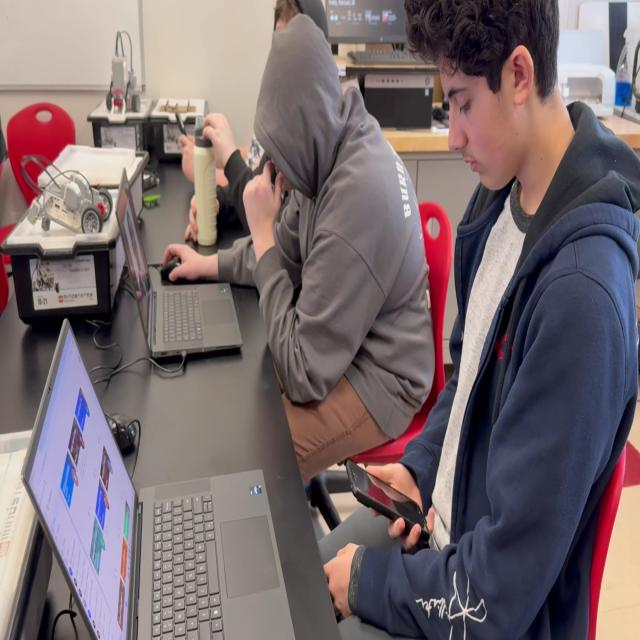pen: (346, 458, 430, 544), (175, 111, 193, 158)
